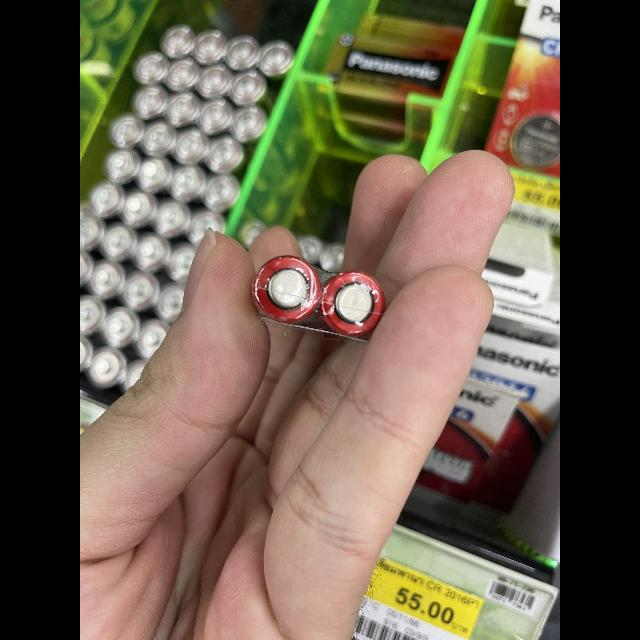battery: (306, 264, 388, 344), (250, 252, 318, 332)
